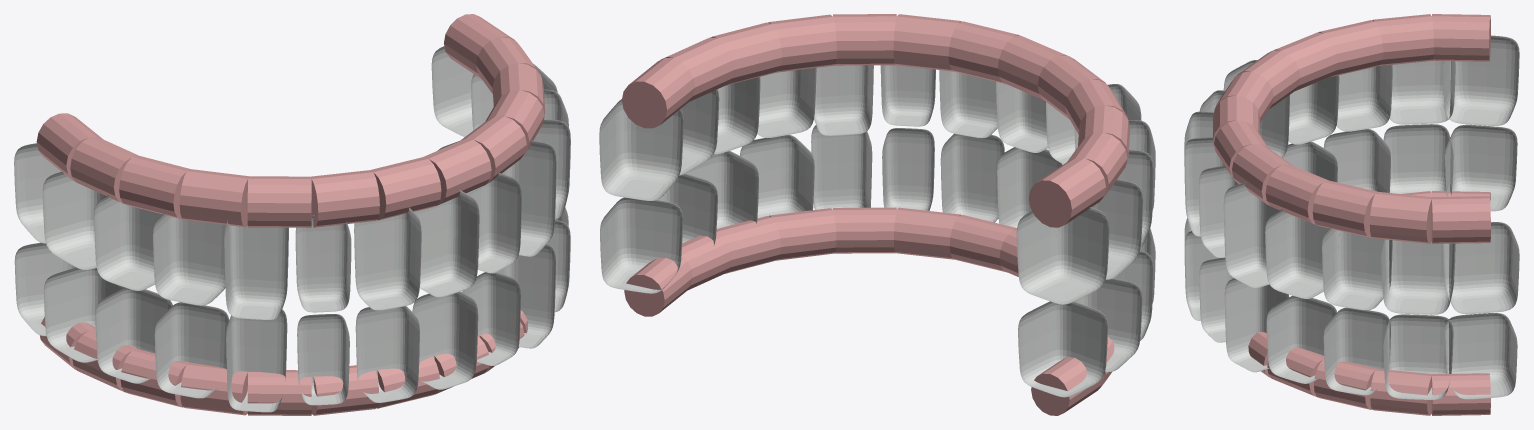
File: teeth.glb
3 views of the same model, side by side, from view 1: azimuth 30°, elevation 25°; view 2: azimuth 150°, elevation 25°; view 3: azimuth 270°, elevation 25° (orthographic). The views are drawn at different scales.
Parts seen in each view (by area): view 1: upper_tooth_07, upper_tooth_04, upper_tooth_05, upper_tooth_08, upper_tooth_03, lower_tooth_04, lower_tooth_07, upper_tooth_06, lower_tooth_08, lower_tooth_03, upper_tooth_02, lower_tooth_05 (+34 smaller); view 2: upper_tooth_01, upper_tooth_14, lower_tooth_01, lower_tooth_14, lower_tooth_08, lower_tooth_11, lower_tooth_10, lower_tooth_09, upper_tooth_10, upper_gingiva_01, upper_gingiva_13, upper_tooth_11 (+35 smaller); view 3: upper_tooth_14, upper_tooth_01, lower_tooth_01, upper_tooth_13, lower_tooth_14, upper_tooth_12, upper_tooth_11, lower_tooth_13, lower_tooth_02, upper_tooth_10, lower_tooth_12, lower_tooth_11 (+31 smaller).
Boxes of the visible parts, x1,y1,x2,y2 form: upper_tooth_07: (354,207,421,310); upper_tooth_04: (153,212,225,305); upper_tooth_05: (224,220,288,319); upper_tooth_08: (414,190,479,297); upper_tooth_03: (94,195,161,290); lower_tooth_04: (154,302,229,398); lower_tooth_07: (355,306,419,402); upper_tooth_06: (295,215,351,312); lower_tooth_08: (412,291,478,389); lower_tooth_03: (95,287,172,383); upper_tooth_02: (42,171,105,269); lower_tooth_05: (226,309,287,412); upper_tooth_01: (1016,207,1109,304); upper_tooth_14: (599,99,683,200); lower_tooth_01: (1018,301,1107,397); lower_tooth_14: (600,197,682,293); lower_tooth_08: (940,133,1004,222); lower_tooth_11: (740,134,814,218); lower_tooth_10: (811,125,872,209); lower_tooth_09: (882,128,934,210); upper_tooth_10: (814,65,873,135); upper_gingiva_01: (1028,158,1105,227); upper_gingiva_13: (622,57,694,128); upper_tooth_11: (757,68,816,137); upper_tooth_14: (1443,222,1519,314); upper_tooth_01: (1442,35,1519,125); lower_tooth_01: (1445,124,1517,211); upper_tooth_13: (1381,239,1455,314); lower_tooth_14: (1445,313,1517,399); upper_tooth_12: (1322,227,1392,310); upper_tooth_11: (1265,209,1339,298); lower_tooth_13: (1383,314,1453,399); lower_tooth_02: (1383,124,1453,195); upper_tooth_10: (1223,182,1279,287); lower_tooth_12: (1323,307,1390,395); lower_tooth_11: (1266,295,1336,383).
Bounding box in the file's own units: 3.1 × 1.42 × 2.
